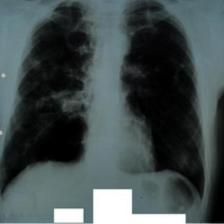tuberculosis: (0, 0, 207, 224)
